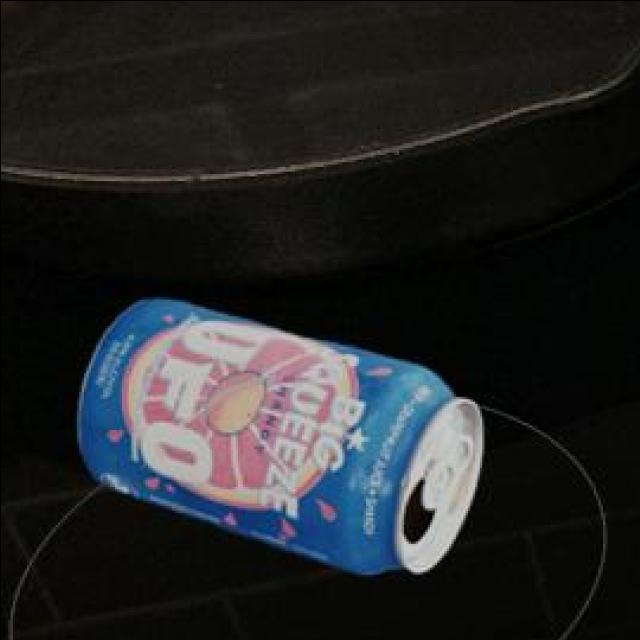logam: (75, 295, 478, 570)
